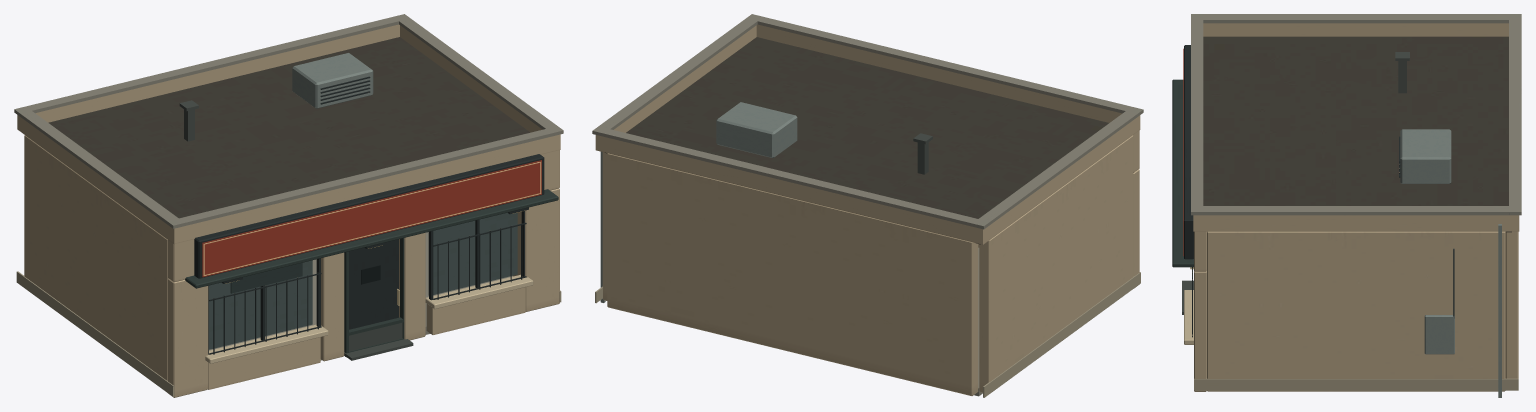
The model's file is store-liquor-blank.glb.
3 renders of one model, left to right at view 1: azimuth 30°, elevation 25°; view 2: azimuth 150°, elevation 25°; view 3: azimuth 270°, elevation 25°, orthographic. The views are drawn at different scales.
Parts seen in each view (by area): view 1: Liquor02_Roof, Liquor02_Shell, Liquor02_MainSign, Liquor02_Glazing, Liquor02_FacadeDetails, Liquor02_RoofEquipment, Liquor02_Door, Liquor02_SecurityBars, Liquor02_WindowFrames, Liquor02_SecondarySigns; view 2: Liquor02_Shell, Liquor02_Roof, Liquor02_RoofEquipment, Liquor02_FacadeDetails; view 3: Liquor02_Roof, Liquor02_Shell, Liquor02_FacadeDetails, Liquor02_RoofEquipment, Liquor02_ServiceDetails, Liquor02_MainSign.
Boxes of the visible parts, left/top/right/bottom form: Liquor02_Roof: left=14, top=14, right=563, bottom=243; Liquor02_Shell: left=24, top=135, right=559, bottom=397; Liquor02_MainSign: left=194, top=154, right=544, bottom=278; Liquor02_Glazing: left=209, top=212, right=517, bottom=349; Liquor02_FacadeDetails: left=16, top=189, right=561, bottom=396; Liquor02_RoofEquipment: left=179, top=53, right=373, bottom=141; Liquor02_Door: left=344, top=238, right=413, bottom=360; Liquor02_SecurityBars: left=209, top=222, right=526, bottom=354; Liquor02_WindowFrames: left=208, top=211, right=524, bottom=354; Liquor02_SecondarySigns: left=230, top=263, right=380, bottom=293; Liquor02_Shell: left=602, top=130, right=1139, bottom=396; Liquor02_Roof: left=592, top=14, right=1143, bottom=244; Liquor02_RoofEquipment: left=716, top=102, right=932, bottom=174; Liquor02_FacadeDetails: left=595, top=272, right=1140, bottom=397; Liquor02_Roof: left=1191, top=14, right=1521, bottom=232; Liquor02_Shell: left=1194, top=231, right=1518, bottom=391; Liquor02_FacadeDetails: left=1172, top=79, right=1518, bottom=390; Liquor02_RoofEquipment: left=1395, top=52, right=1451, bottom=183; Liquor02_ServiceDetails: left=1424, top=224, right=1501, bottom=397; Liquor02_MainSign: left=1183, top=45, right=1193, bottom=259.
Bounding box in the file's own units: 10.13 × 4.86 × 7.53.
Materials: 5 (5 with a texture image).
